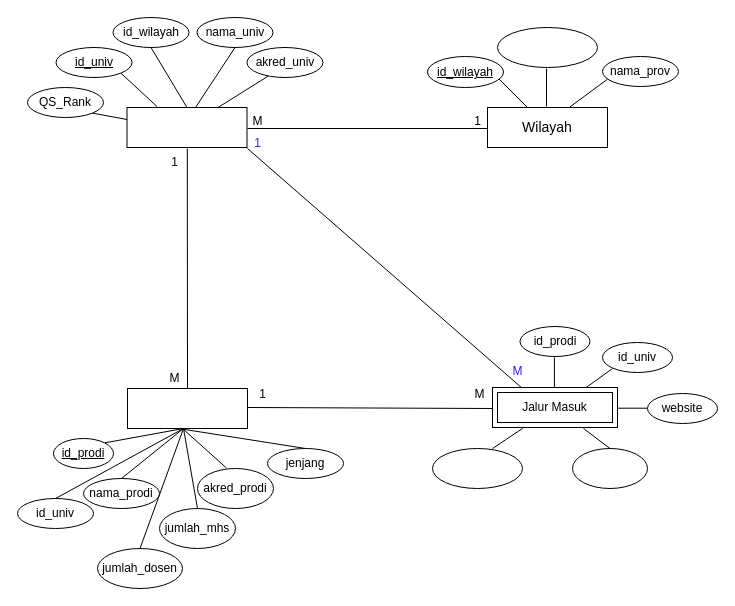
Some shapes in this 735 by 606 pixel diagram are drawn without their labels. The shapes that lost their labels are listed below. From the top down, each one's centre as x and y in pixels, then its label:
pixel 547 47: Nama_Kabkota
pixel 186 127: Universitas
pixel 187 408: Prodi
pixel 477 468: daya_tampung
pixel 610 468: jalur_masuk
